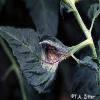Tomato leaf late blight: (1, 21, 71, 93)
